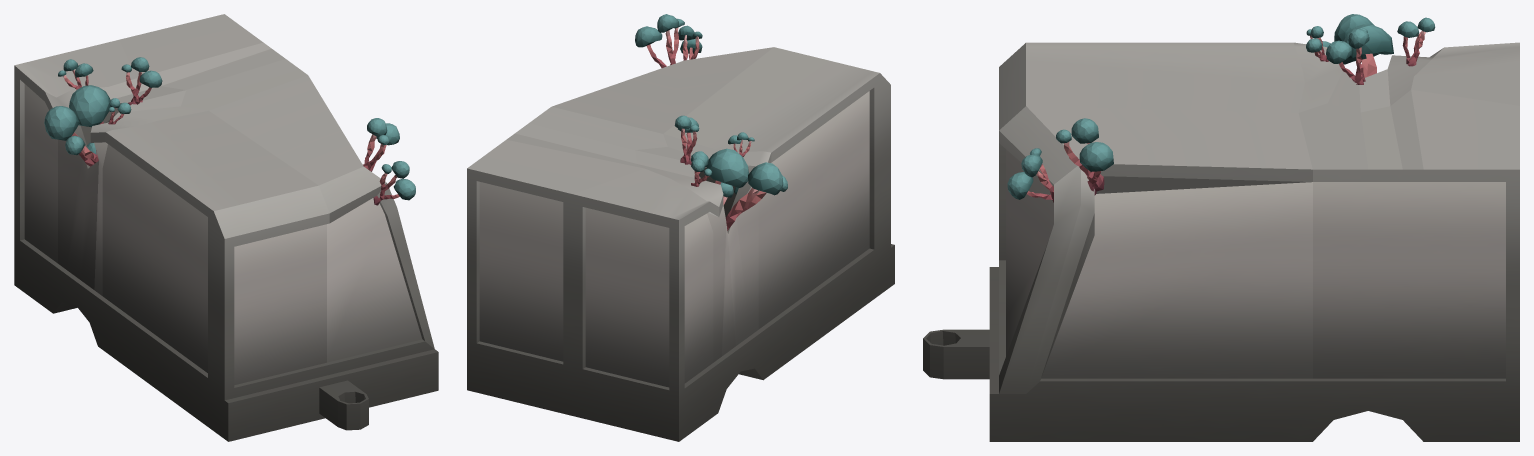
The model's file is Truck_Infested_Trailer_01.fbx.
The picture shows the model from 3 angles, left to right: view 1: azimuth 30°, elevation 25°; view 2: azimuth 150°, elevation 25°; view 3: azimuth 270°, elevation 25°; orthographic projection. The views are drawn at different scales.
Visible parts, largest first — view 1: Top_20; view 2: Top_20; view 3: Top_20.
Part boxes in pixels (bbox=[...]): Top_20: bbox=[14, 14, 438, 441]; Top_20: bbox=[467, 14, 894, 441]; Top_20: bbox=[923, 14, 1519, 441].
Size of the model in its own units: 255 by 257 by 431.
